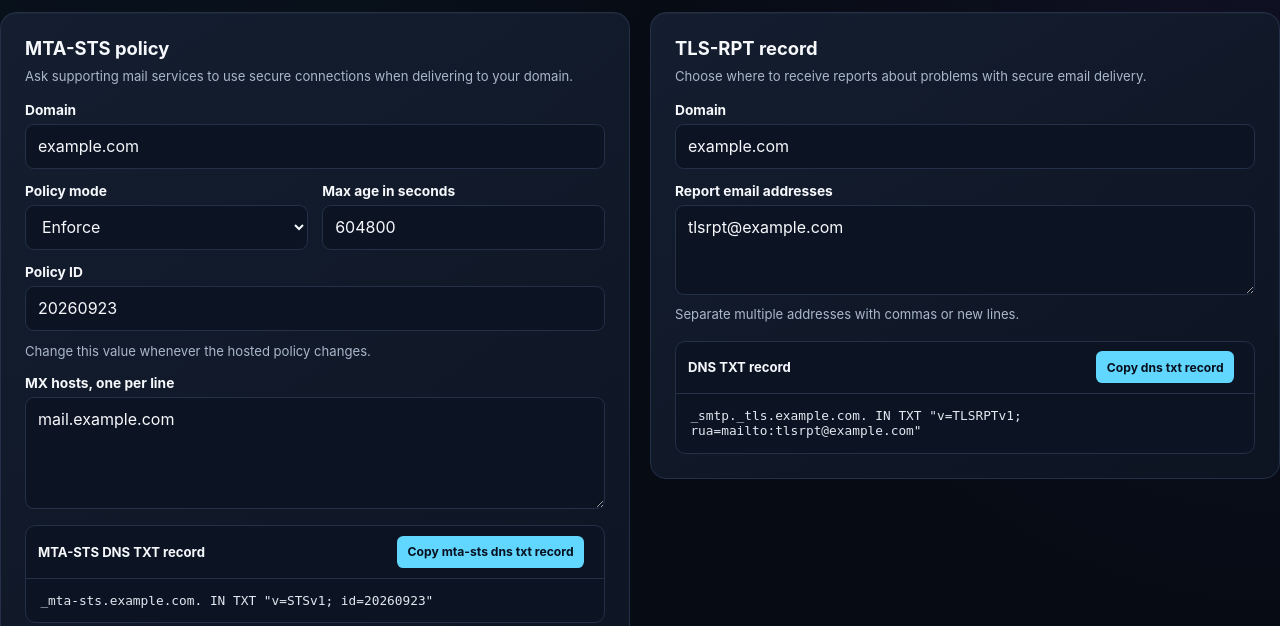
Test: GeneratorPage › allows clearing and correcting MTA-STS max age without an invalid React value
(page scrolled)
Step 1. Clear the number field labelled "Max age in seconds" → [464, 227], box [322,205,605,250]
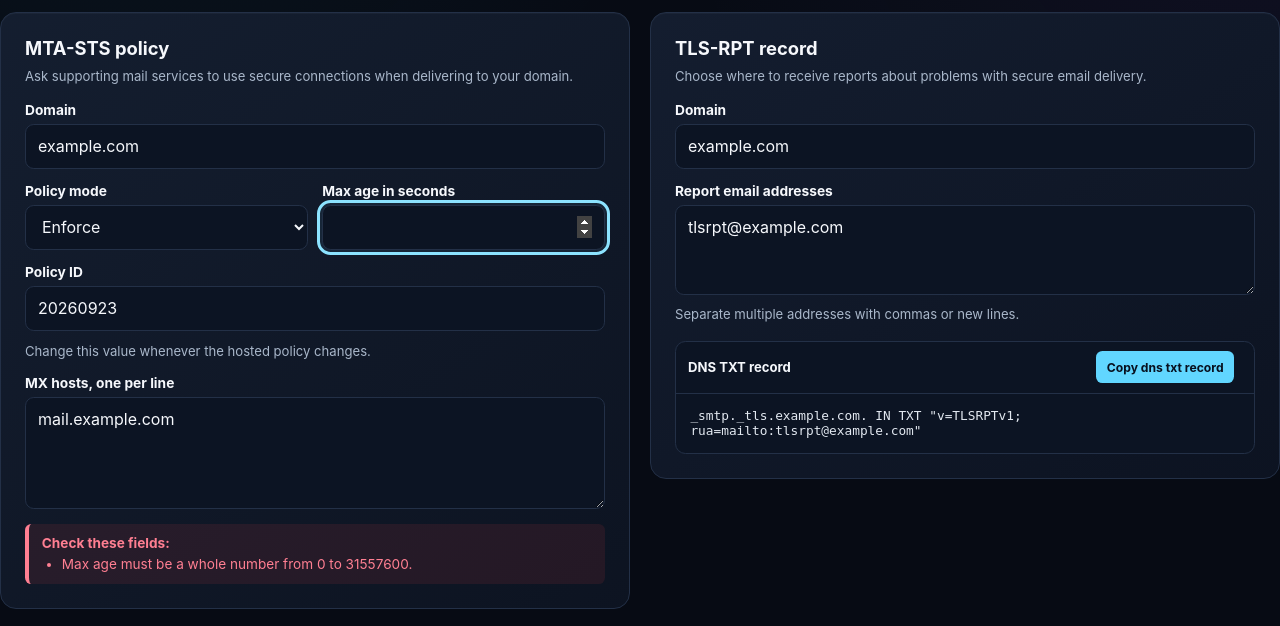
Result: the message shows "Max age must be a whole number" at [62,556,412,572]
Step 2. Type "0" into the number field labelled "Max age in seconds" → [464, 227], box [322,205,605,250]
(page scrolled)
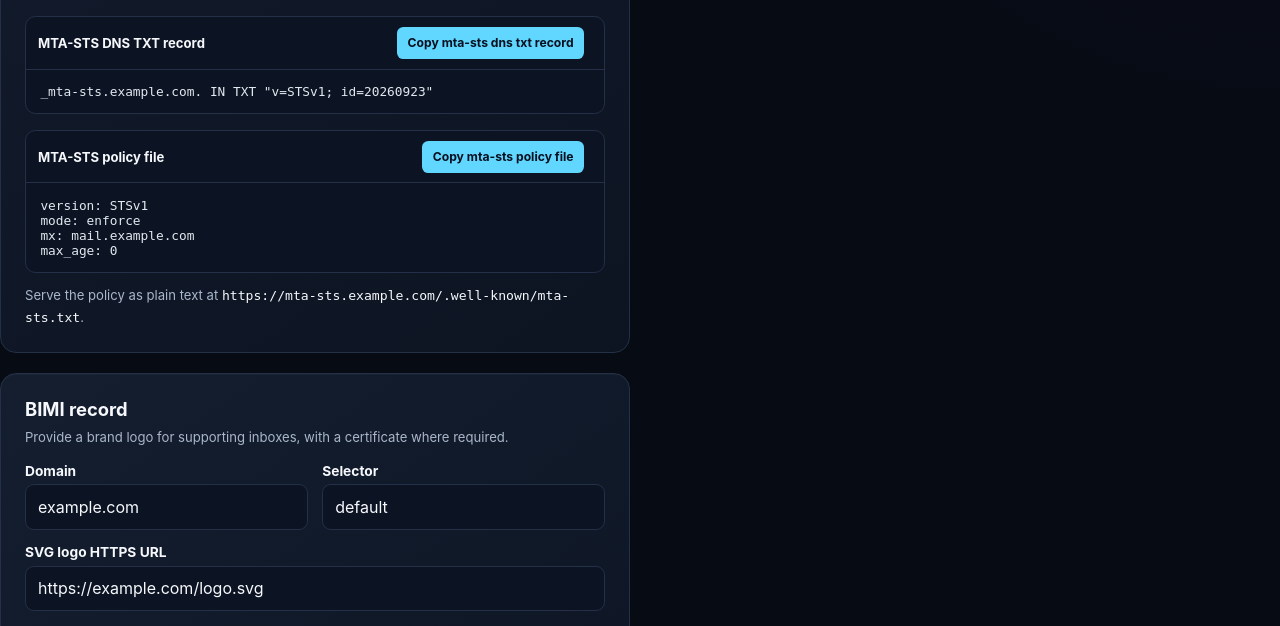
Result: the element named "MTA-STS policy file" shows "max_age: 0" at [40,198,194,258]
